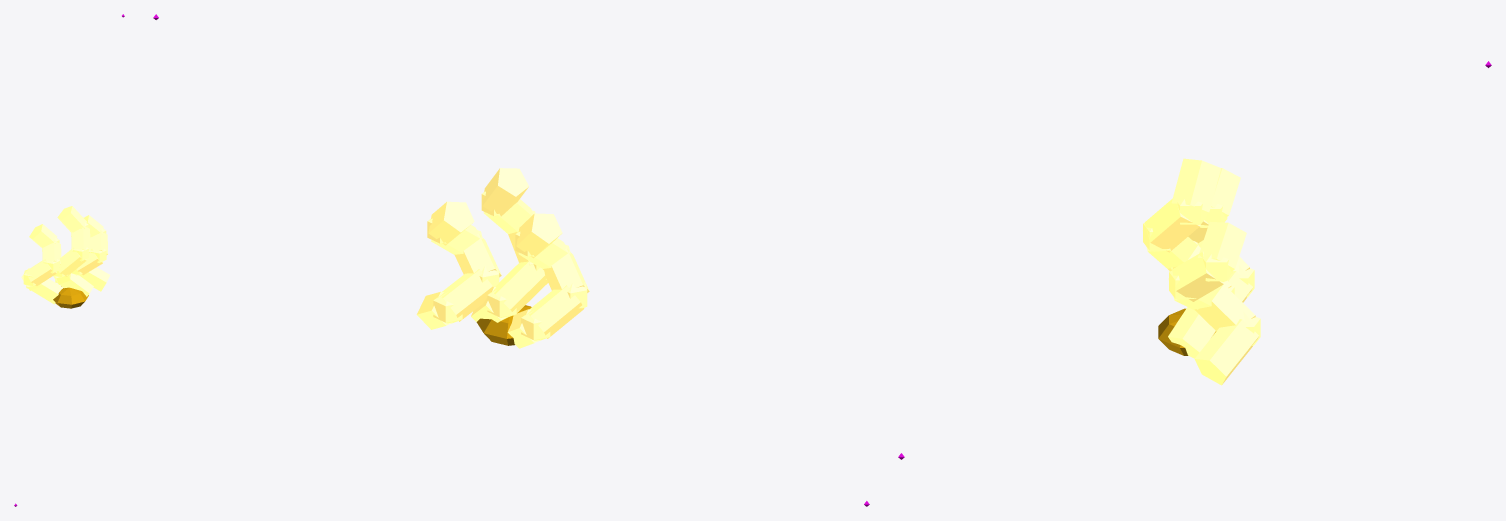
Rendered from acc_gold_steam.fbx.
3 views of the same model, side by side, from view 1: azimuth 30°, elevation 25°; view 2: azimuth 150°, elevation 25°; view 3: azimuth 270°, elevation 25° (orthographic). The views are drawn at different scales.
Parts seen in each view (by area): view 1: Steam, Pleat; view 2: Steam, Pleat; view 3: Steam.
Part boxes in pixels (box(x1,y1,x2,y2)): Steam: box(21, 206, 110, 304); Pleat: box(53, 286, 88, 308); Steam: box(416, 168, 589, 348); Pleat: box(476, 305, 531, 345); Steam: box(1142, 158, 1260, 385).
Size of the model in its own units: 2.99 by 3.6 by 2.99.
